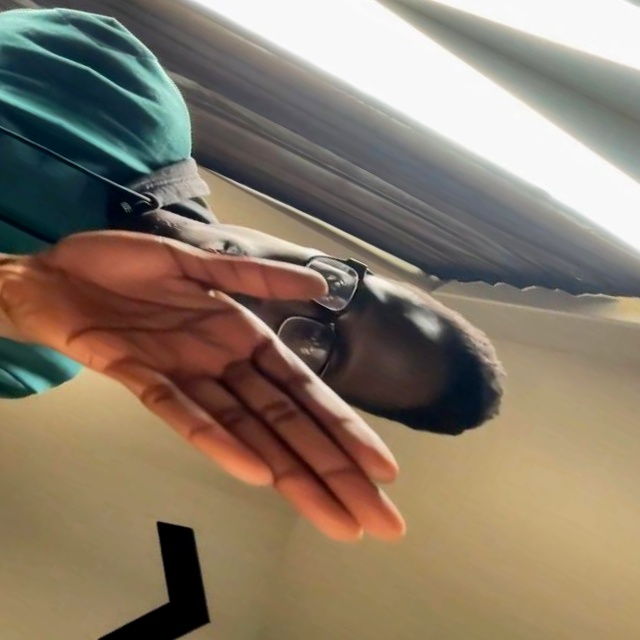Paper: (0, 137, 498, 569)
